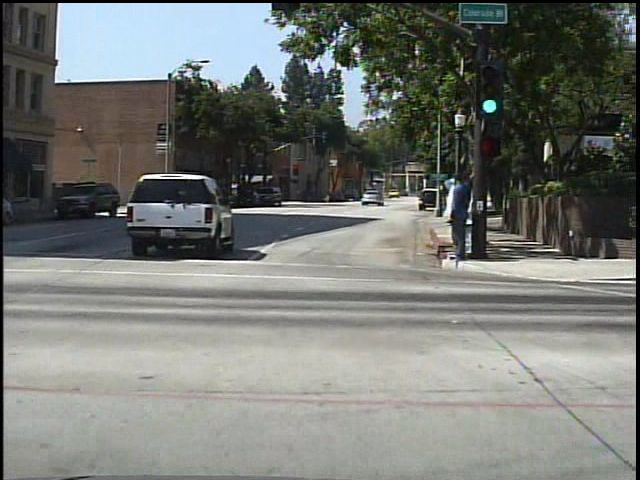person: (445, 171, 472, 265), (438, 176, 464, 264), (321, 188, 332, 204)
